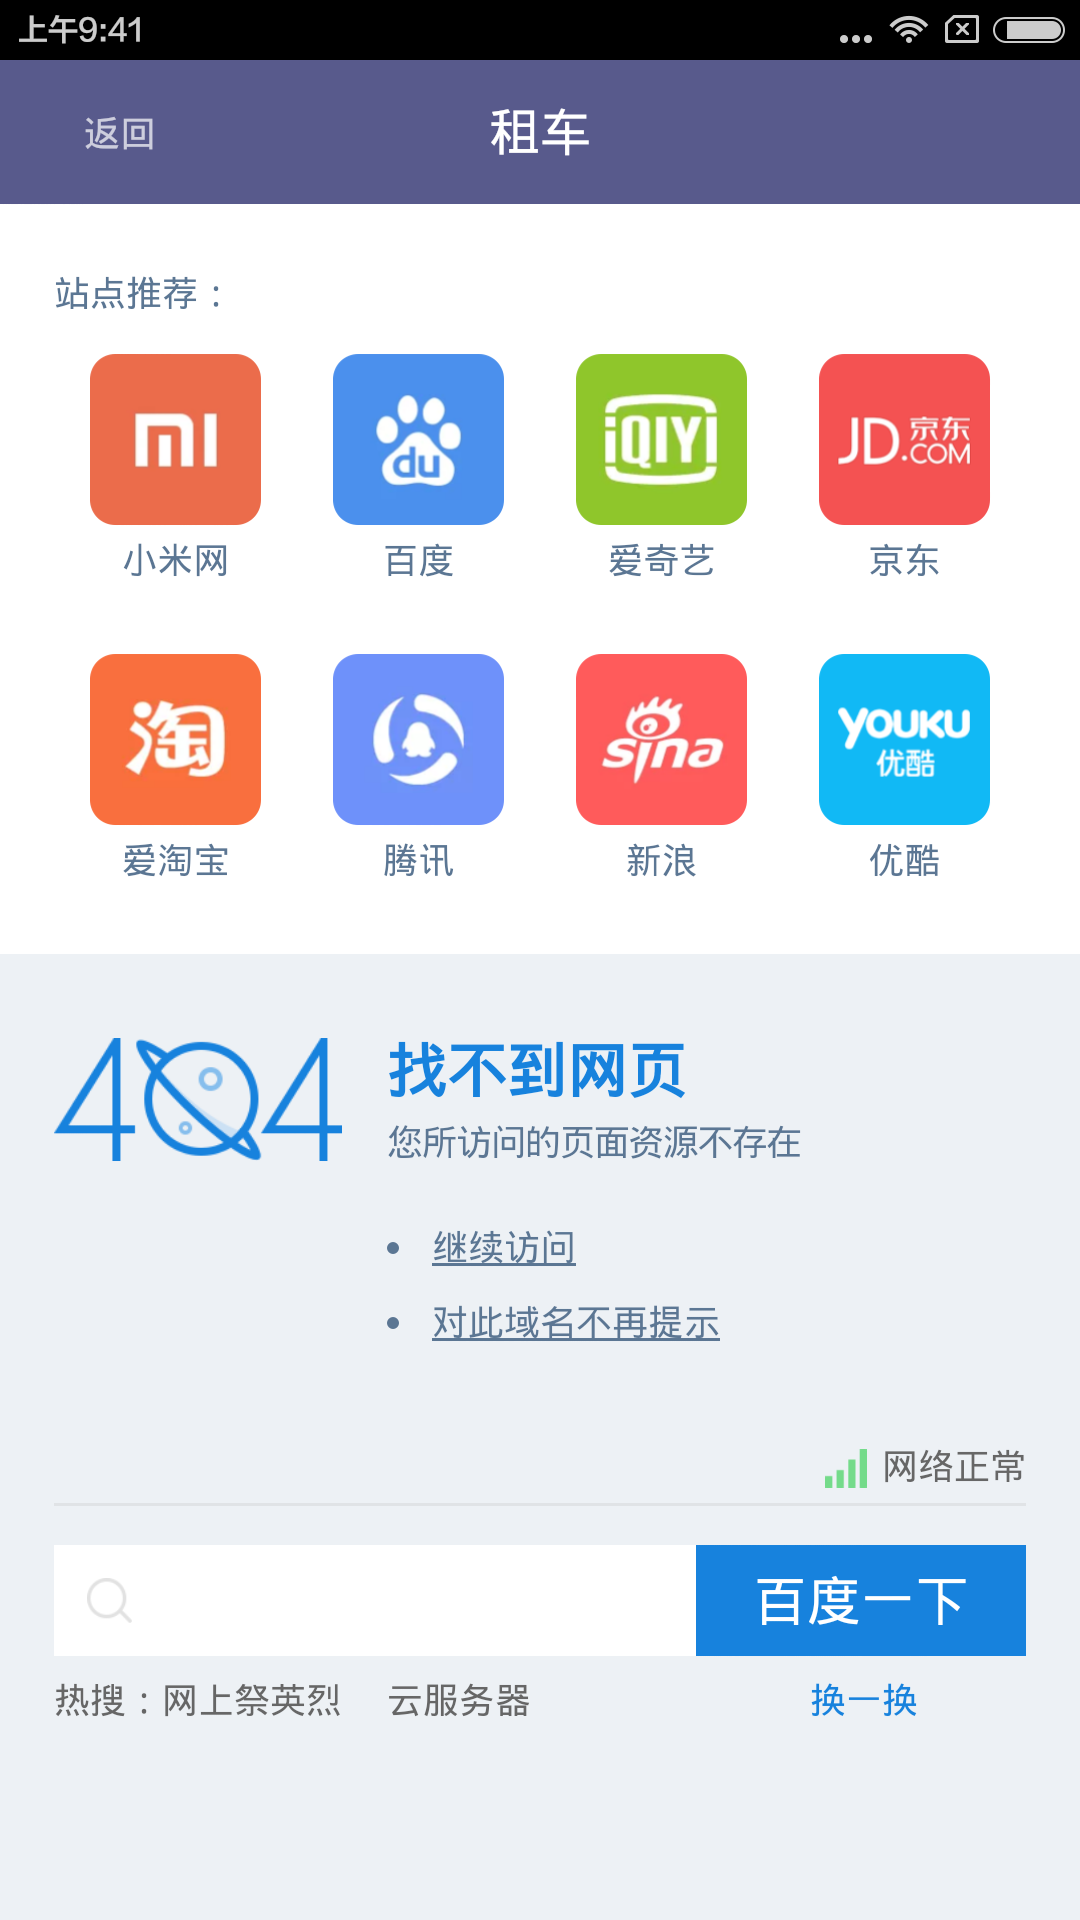button: (688, 1528, 1036, 1669)
imgbutton: (555, 342, 757, 539), (322, 339, 520, 539), (816, 637, 998, 831)
imgview: (75, 343, 273, 531)
textview: (41, 1531, 708, 1663)
